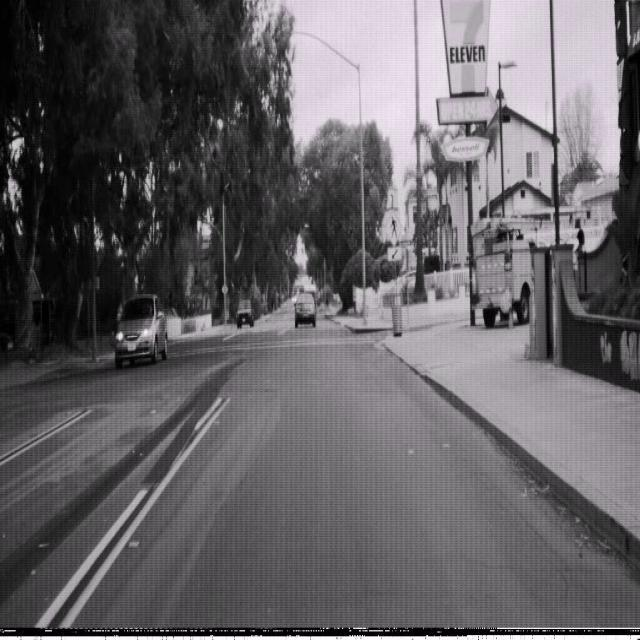pedestrianCrossing: (383, 208, 403, 246)
